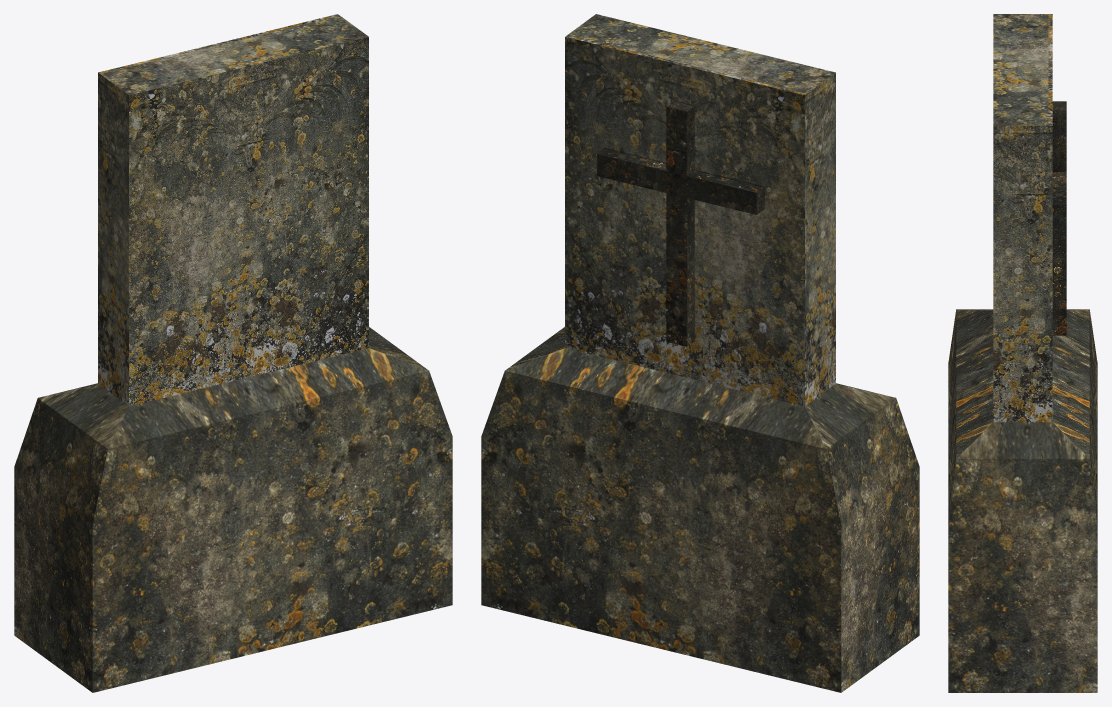
File: Headstone_01.fbx
3 renders of one model, left to right at view 1: azimuth 30°, elevation 25°; view 2: azimuth 150°, elevation 25°; view 3: azimuth 270°, elevation 25°, orthographic. The views are drawn at different scales.
Parts seen in each view (by area): view 1: headstone1; view 2: headstone1; view 3: headstone1.
Part boxes in pixels (box(x1,y1,x2,y2)): headstone1: box(14, 14, 452, 692); headstone1: box(481, 14, 919, 692); headstone1: box(948, 14, 1097, 692).
Size of the model in its own units: 1.12 by 1.68 by 0.4219.
